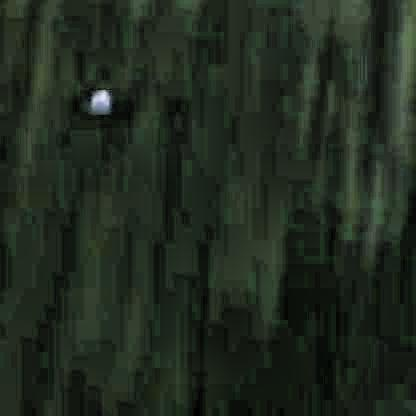golfball: (88, 84, 110, 109)
